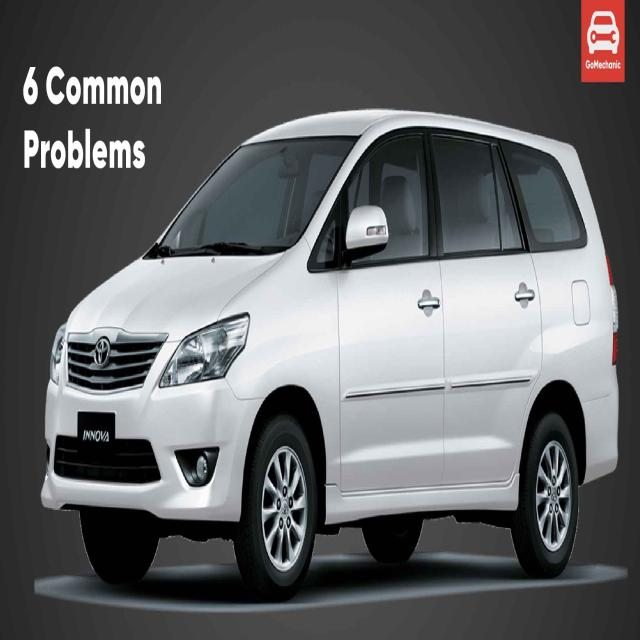light_vehicle: (41, 107, 618, 601)
